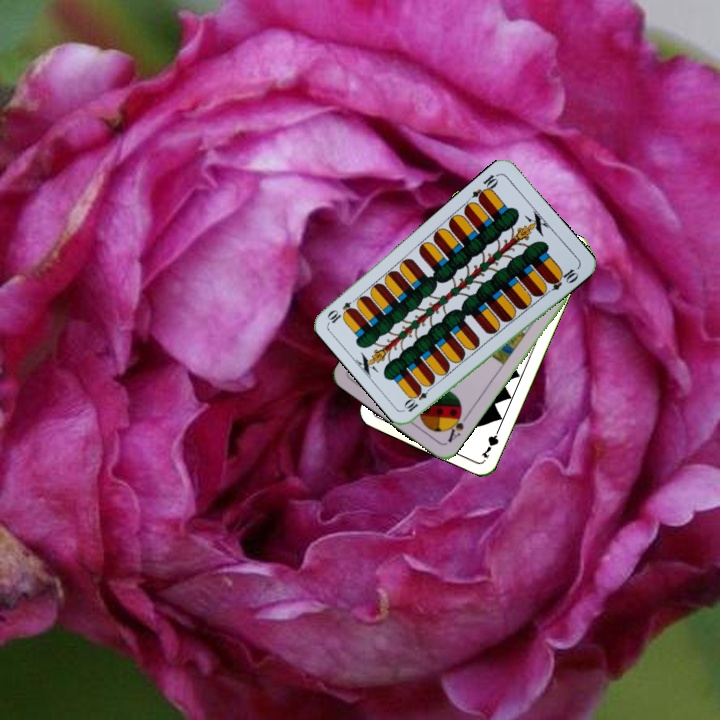E10: (468, 170, 502, 205), (401, 381, 435, 415)
G7: (477, 423, 503, 461)
SA: (443, 407, 466, 445)
